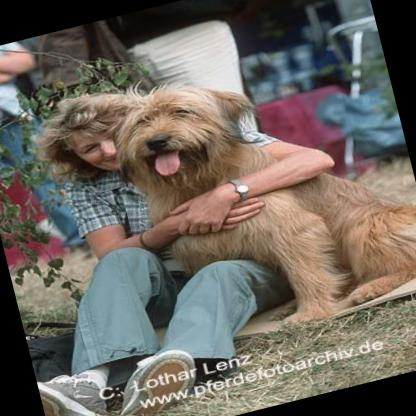briard: (92, 26, 416, 359)
